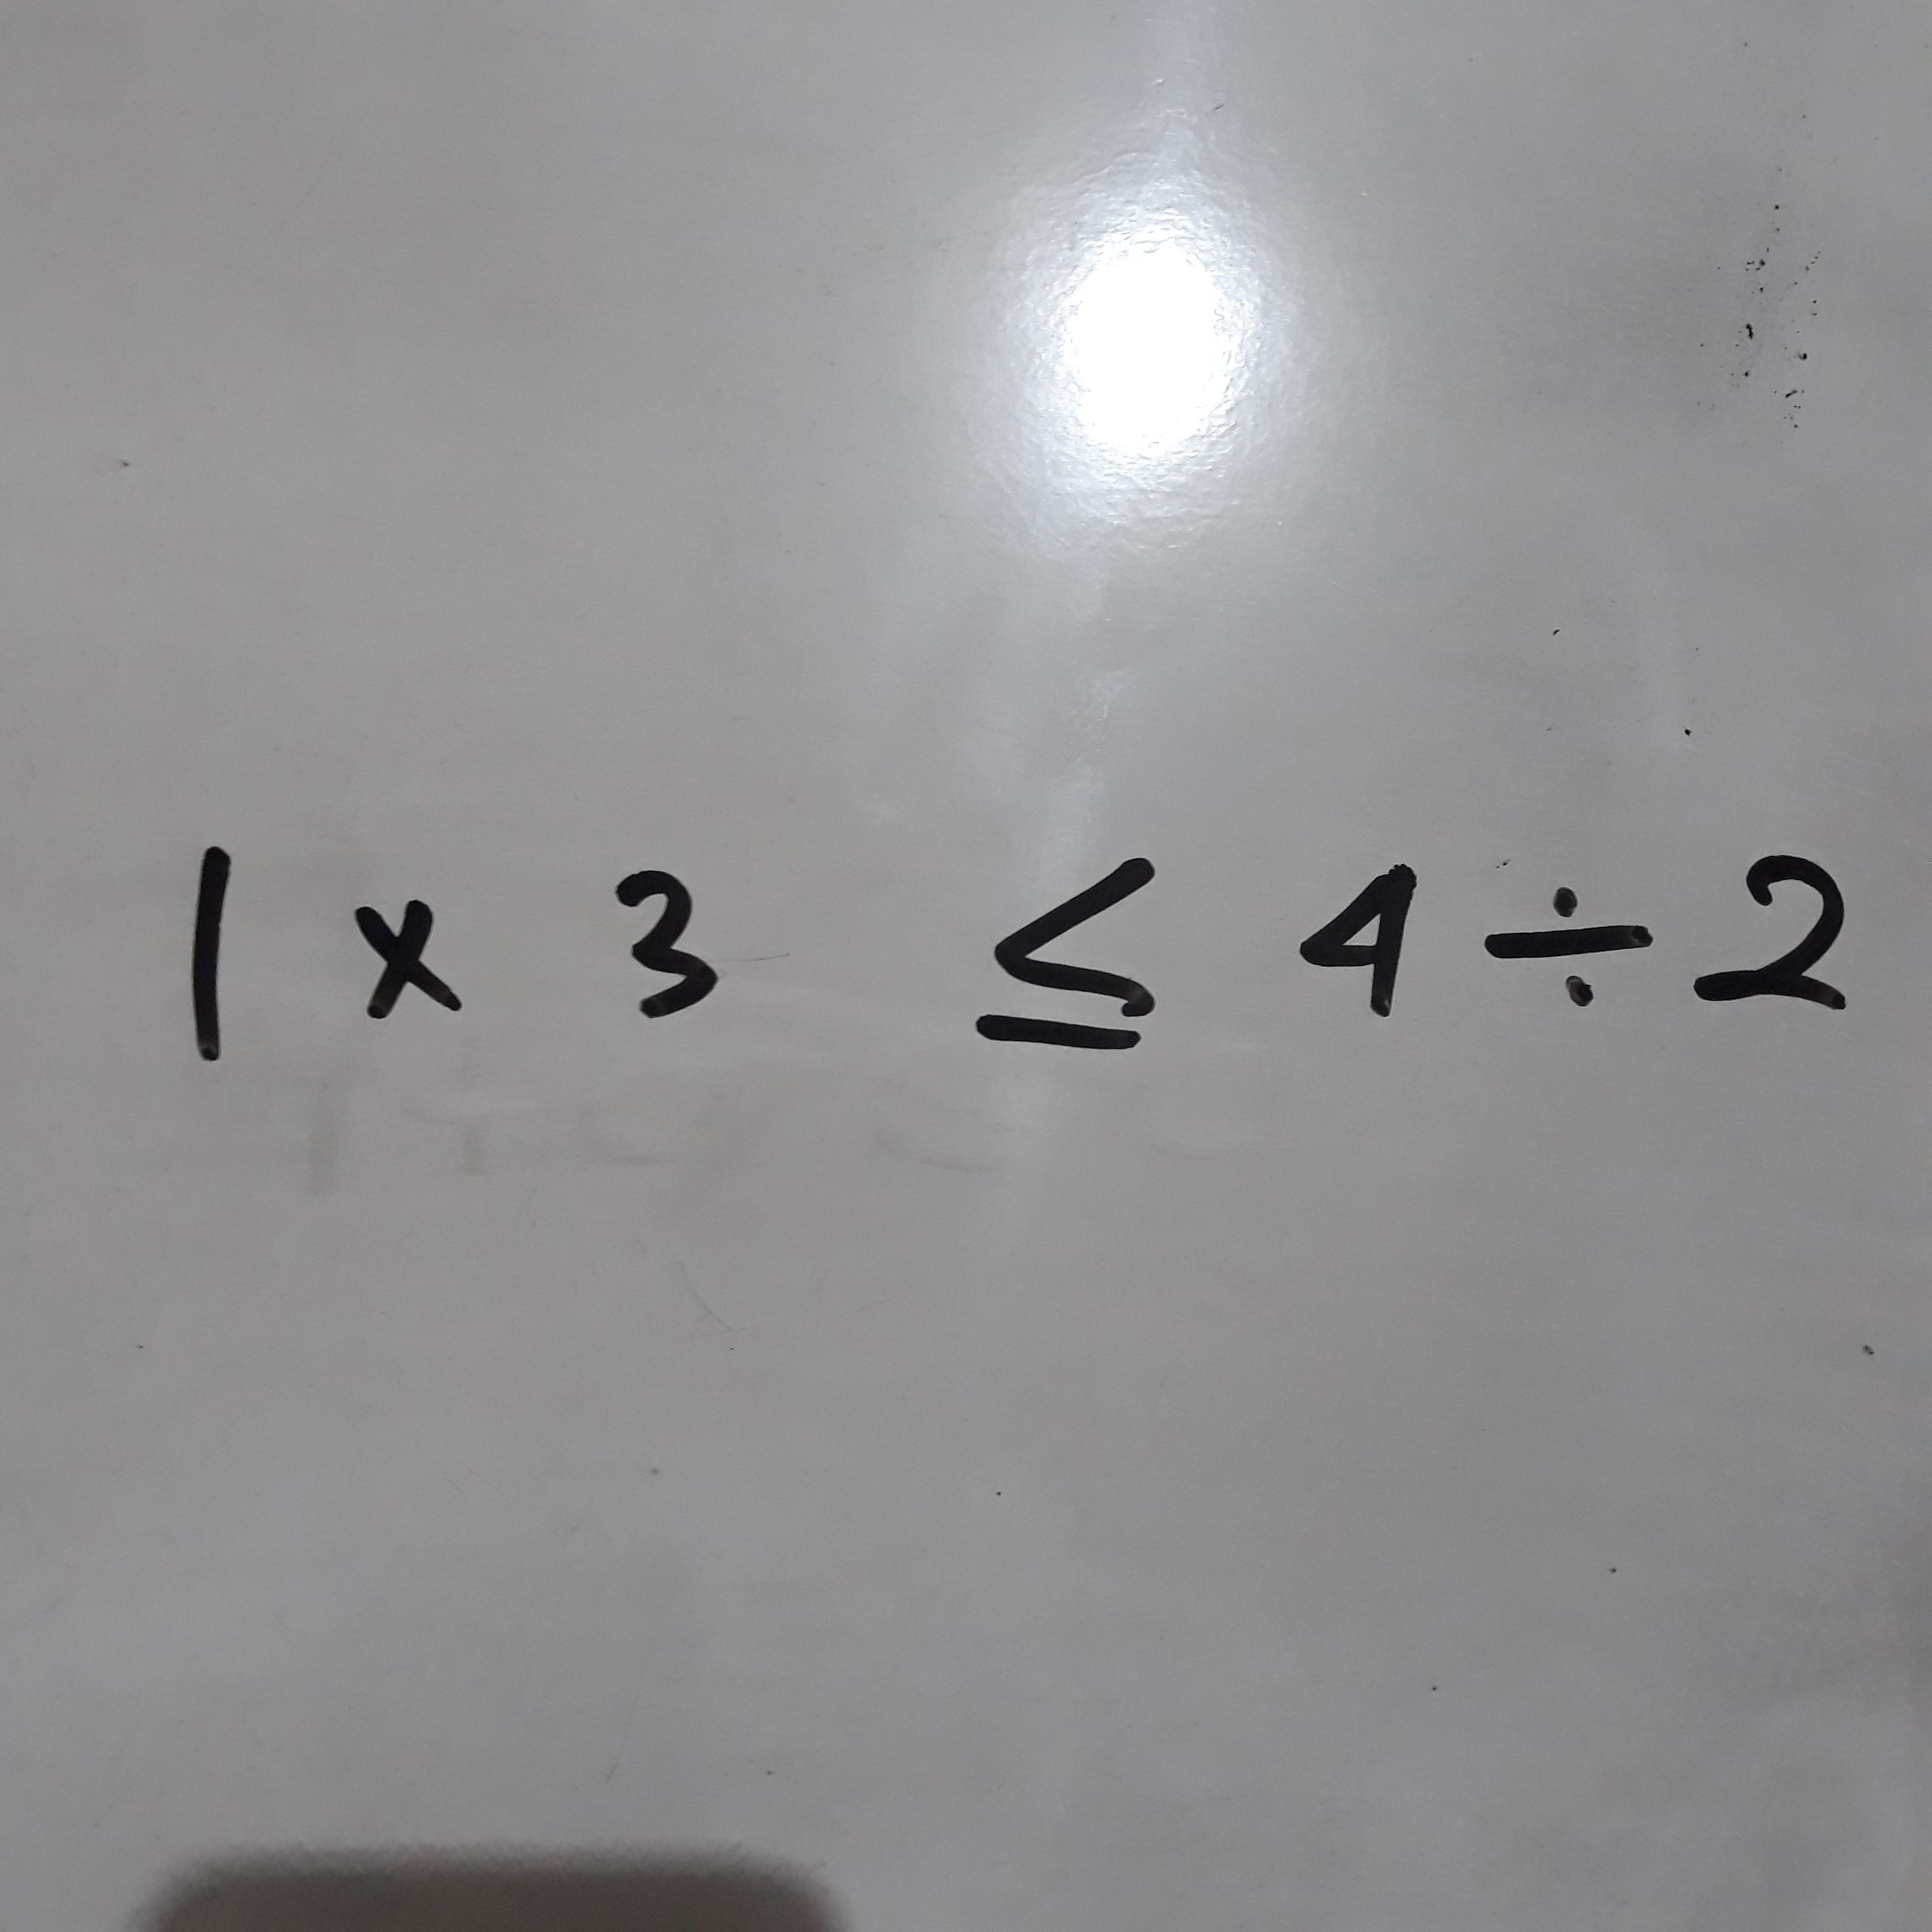div: (1463, 860, 1663, 1018)
lessthan-equal: (940, 817, 1199, 1091)
multi: (326, 882, 479, 1045)
num1: (170, 819, 265, 1093)
num2: (1682, 848, 1878, 1024)
num3: (582, 858, 751, 1038)
num4: (1284, 839, 1433, 1037)
